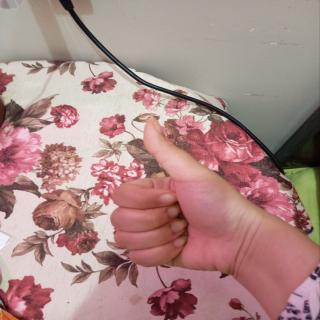ALIF: (103, 116, 265, 295)
